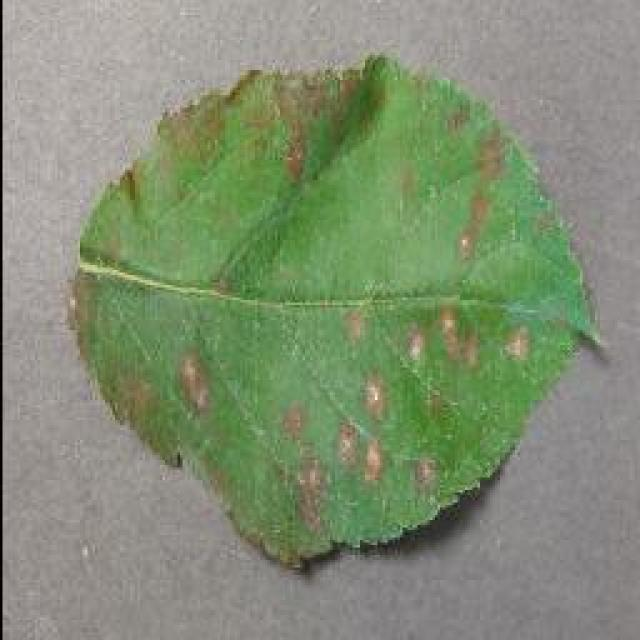apple rust disease: (68, 50, 608, 572)
